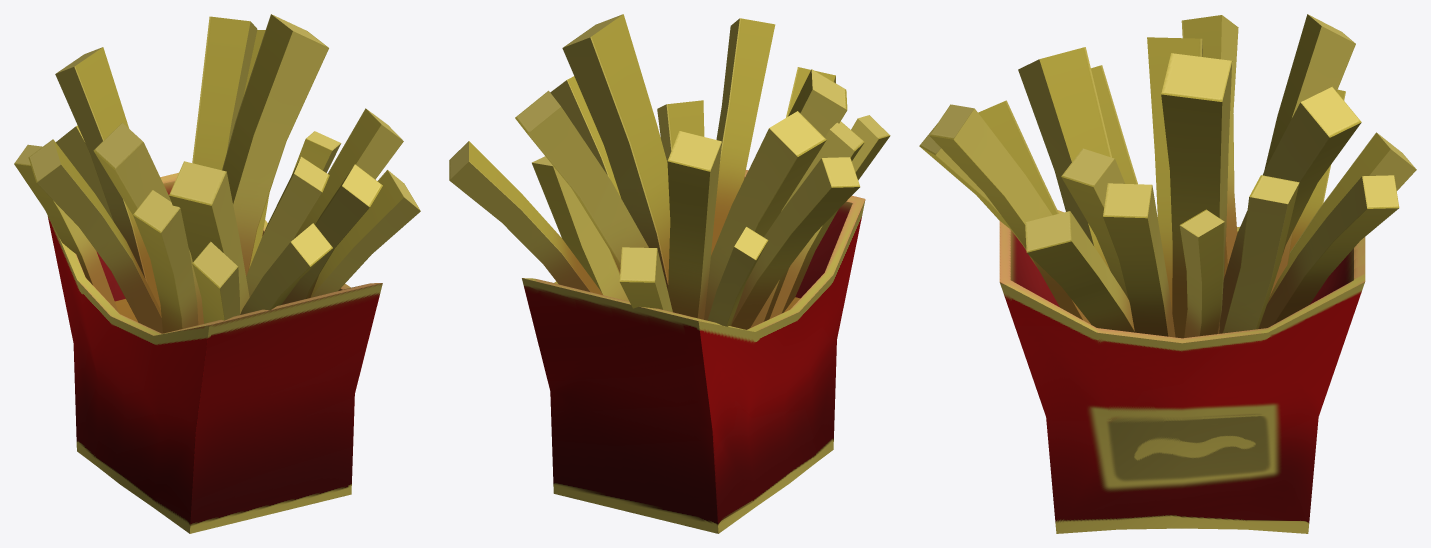
File: Friedpotato.fbx
The picture shows the model from 3 angles, left to right: view 1: azimuth 30°, elevation 25°; view 2: azimuth 150°, elevation 25°; view 3: azimuth 270°, elevation 25°; orthographic projection. The views are drawn at different scales.
Parts seen in each view (by area): view 1: Cube.015; view 2: Cube.015; view 3: Cube.015.
Boxes of the visible parts, x1=… form: Cube.015: x1=14, y1=14, x2=420, y2=533; Cube.015: x1=449, y1=14, x2=890, y2=533; Cube.015: x1=919, y1=14, x2=1416, y2=533.
Size of the model in its own units: 267 by 332 by 314.
